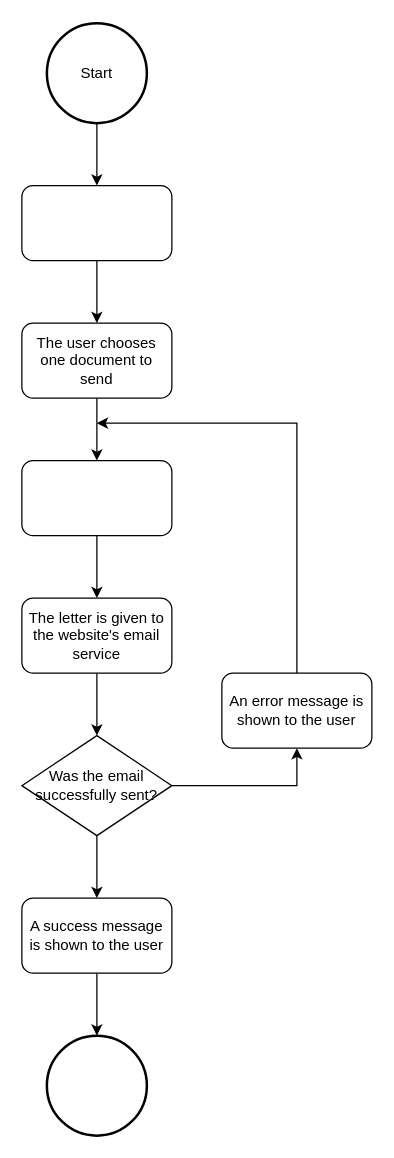
The diagram is 394 pixels wide and 1158 high, and some of its shapes have lost their labels. Here are the shapes that lost their labels. From the top down, the centre of each, then its label:
point 96,222: The user views his saved documents
point 96,497: The user chooses an email to send the letter to
point 96,1085: End
